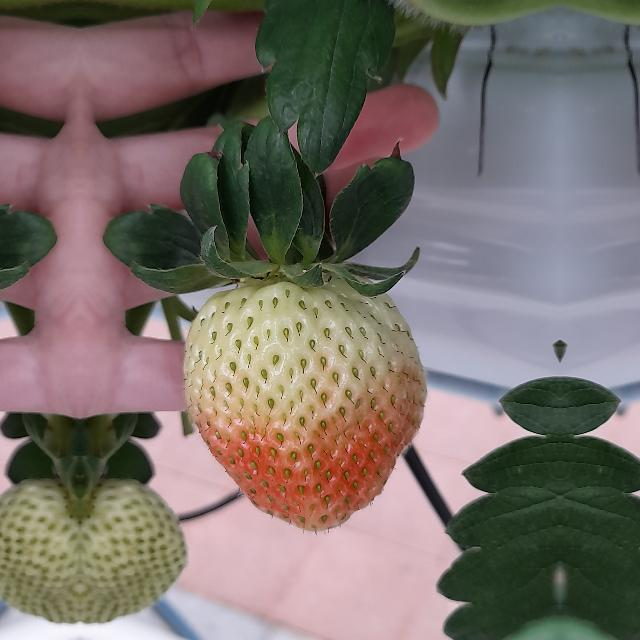Health_50: (184, 272, 426, 530)
